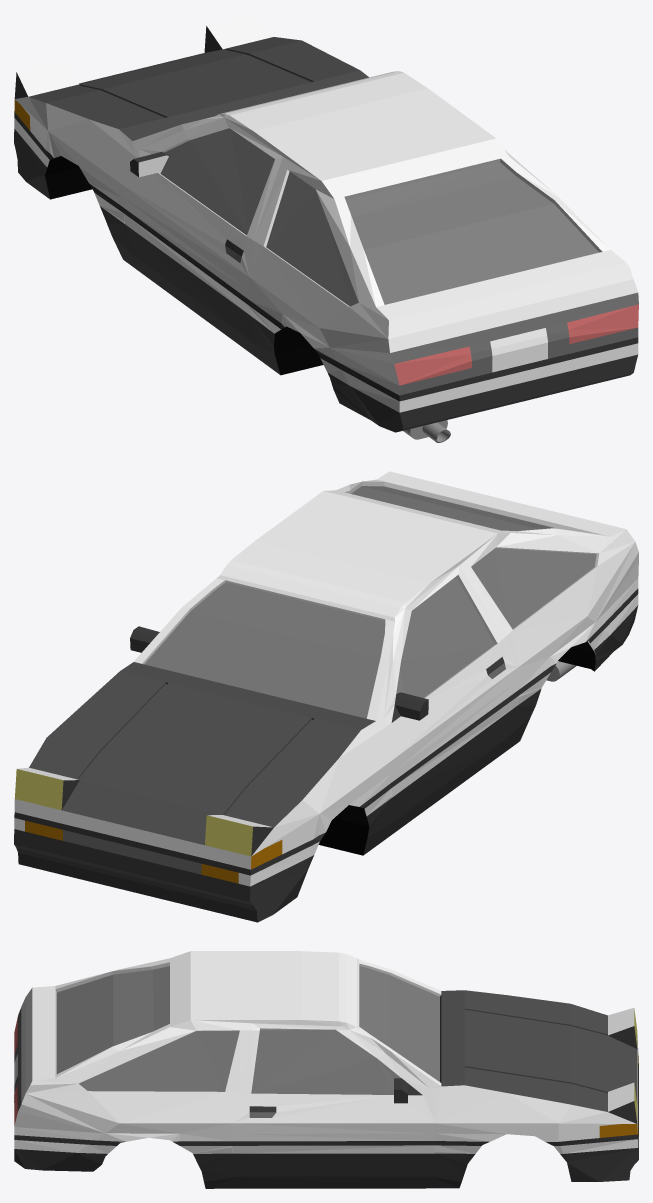
3 renders of one model, top to bottom at view 1: azimuth 30°, elevation 25°; view 2: azimuth 150°, elevation 25°; view 3: azimuth 270°, elevation 25°, orthographic. The views are drawn at different scales.
Visible parts, largest first — view 1: Cube; view 2: Cube; view 3: Cube.
Part boxes in pixels (box(x1,y1,x2,y2)): Cube: box(14, 14, 638, 442); Cube: box(14, 471, 638, 922); Cube: box(14, 951, 638, 1188).
Size of the model in its own units: 363 by 231 by 837.
